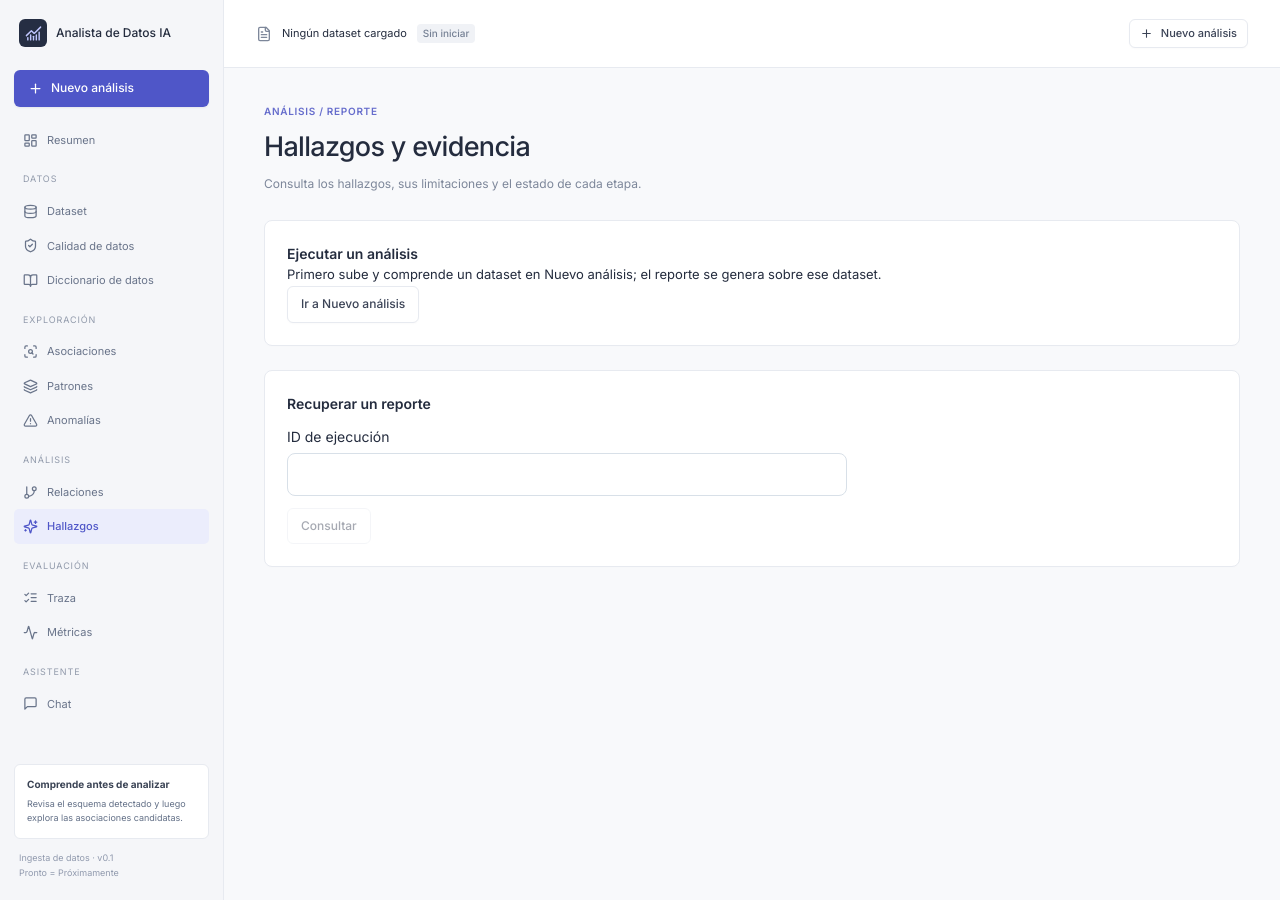
Scenario: Chat fundamentado › uses the backend catalog and links an answered response to its original evidence
Type "chat-run" into the field labelled "ID de ejecución".
click(567, 474); type("chat-run")  # box [287,453,847,496]
Click the button "Consultar".
click(329, 526)  # box [287,508,371,544]
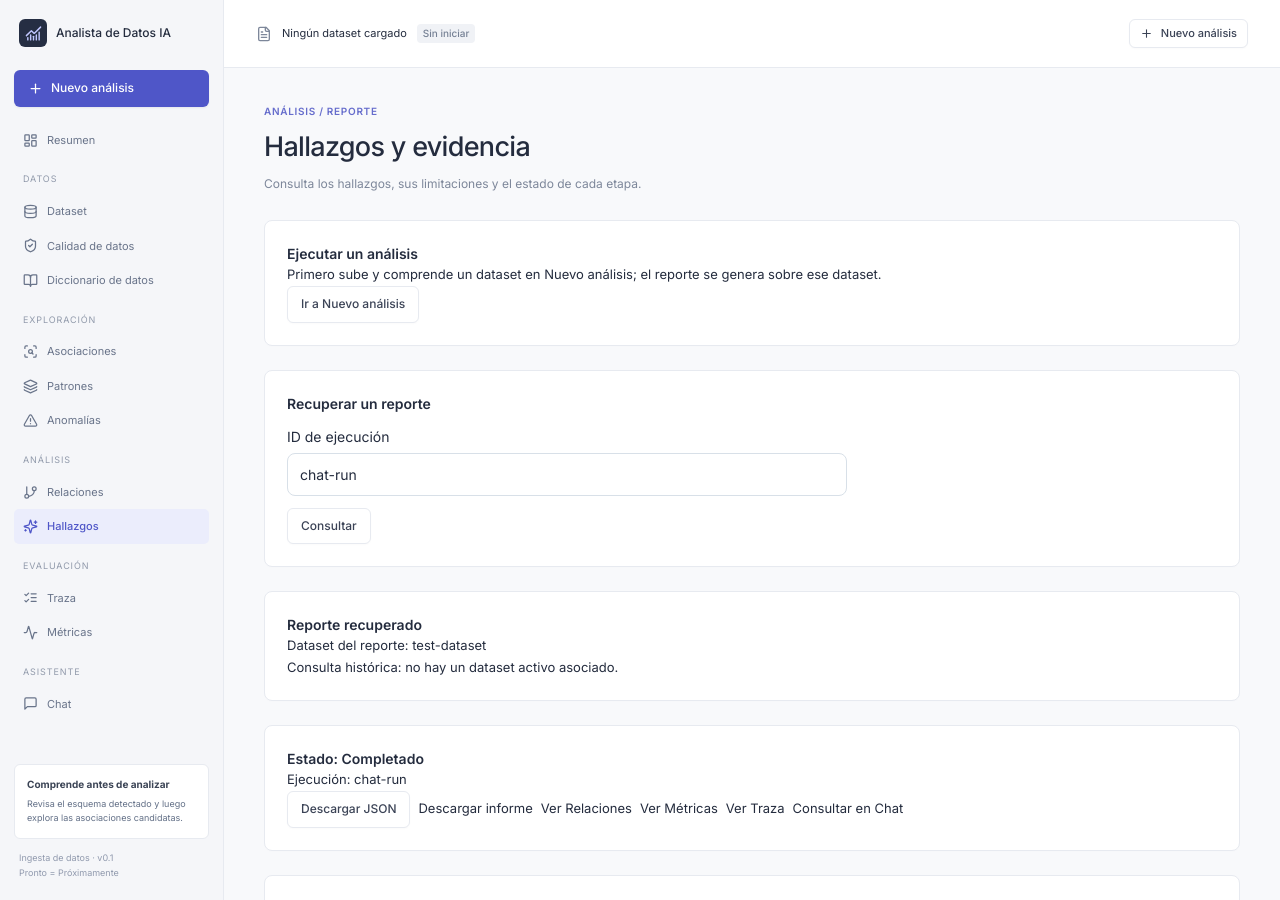
expect the text "Ejecución: chat-run" is shown: met, box [287,771,407,787]
Click the link "Chat".
click(47, 704)  # box [23,696,71,711]
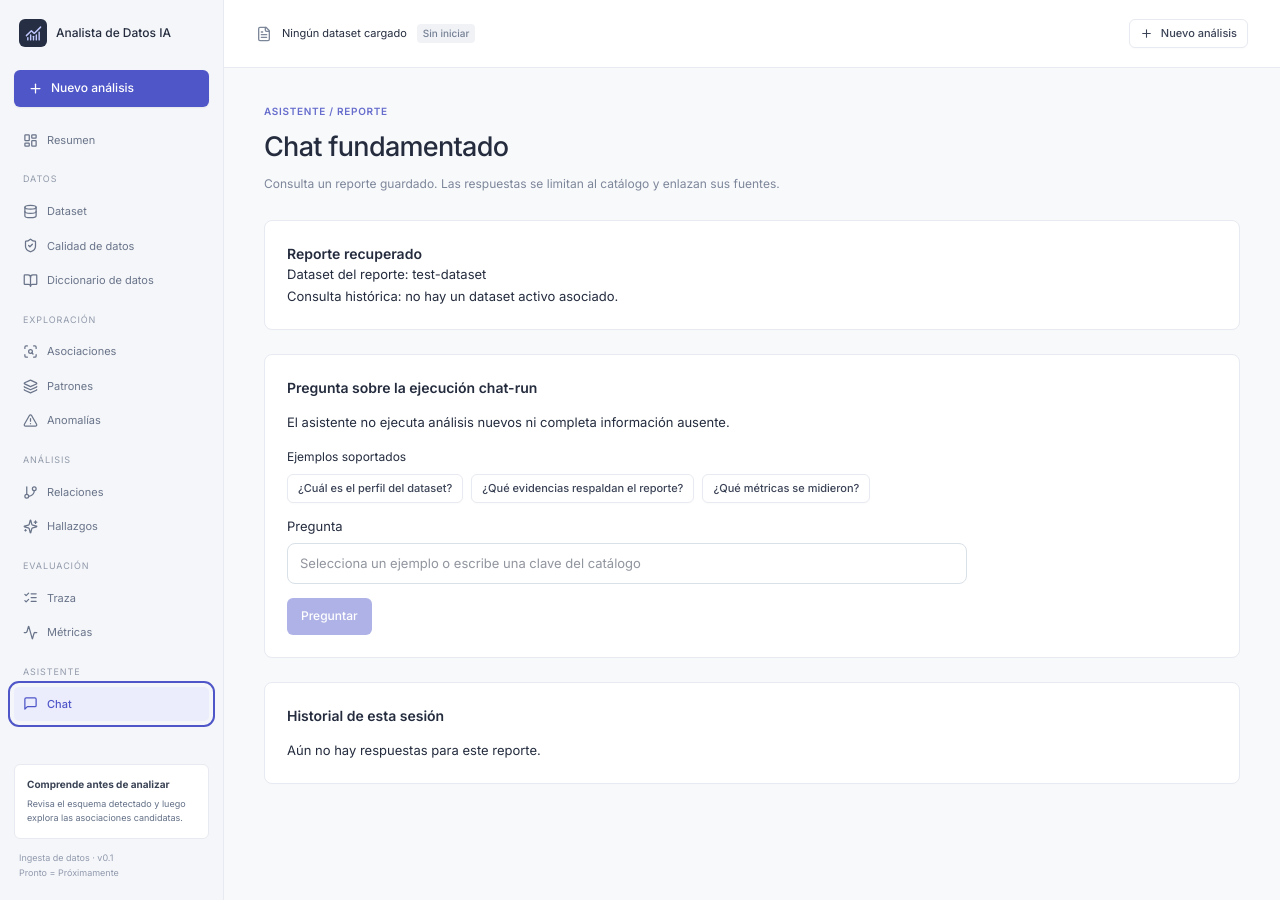
Click the button "¿Qué evidencias respaldan el reporte?".
click(583, 488)  # box [471,474,694,503]
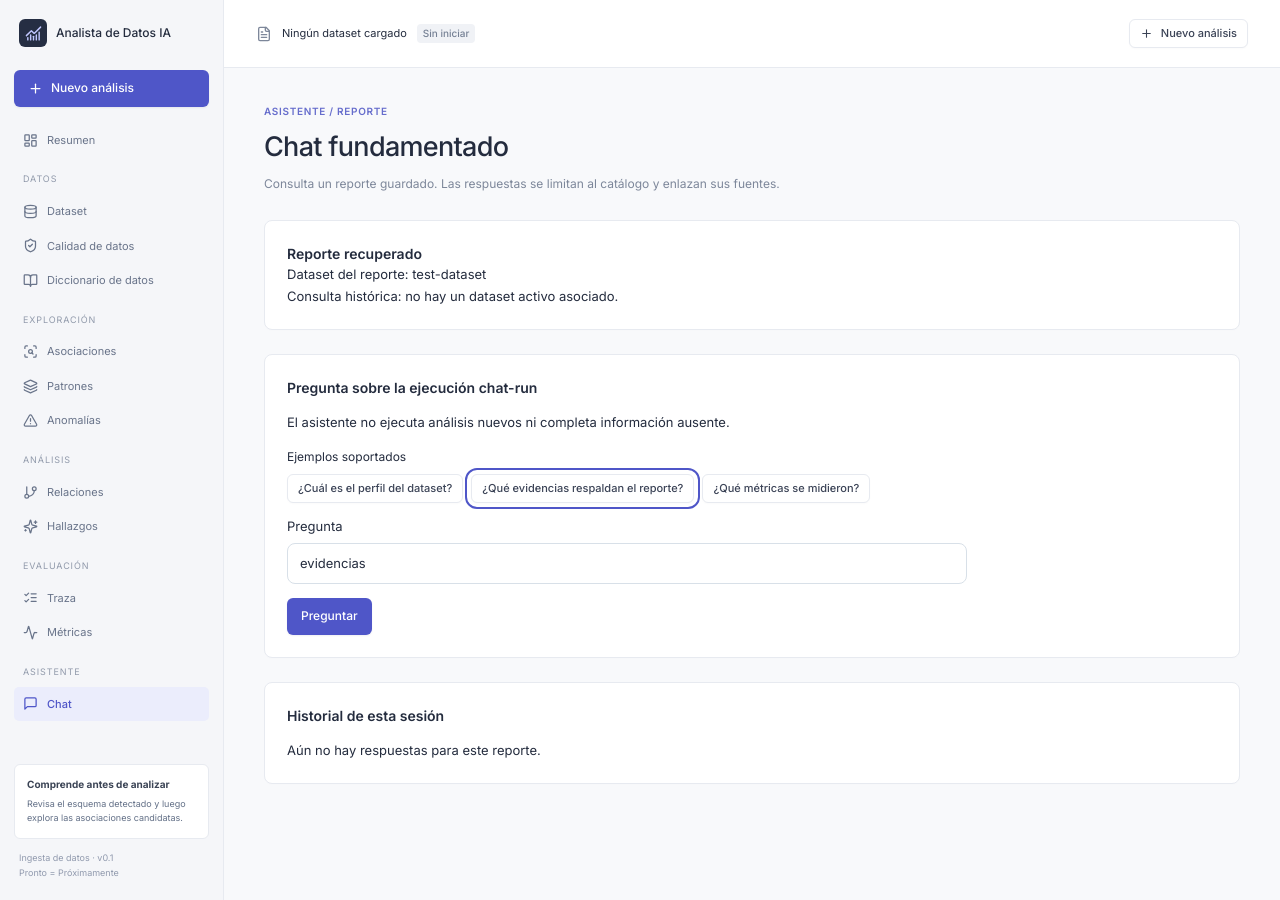
expect the field named "Pregunta para el reporte" holds "evidencias": met, box [287,543,967,584]
Click the button "Preguntar".
click(329, 616)  # box [287,598,372,635]
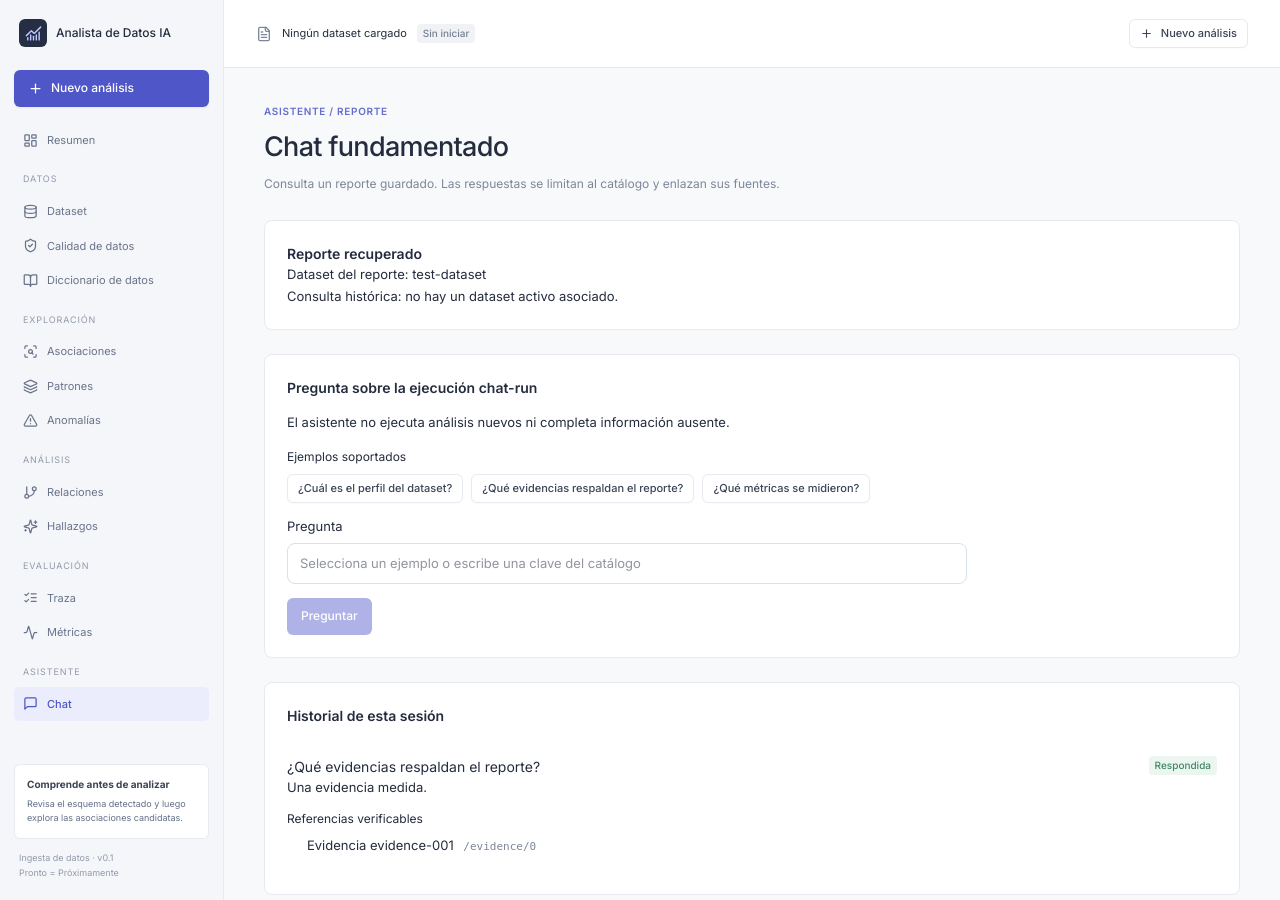
expect the text "Una evidencia medida." is shown: met, box [287,779,427,795]
expect the text "/evidence/0" is shown: met, box [463,840,536,853]
Click the link "Métricas".
click(58, 632)  # box [23,625,92,640]
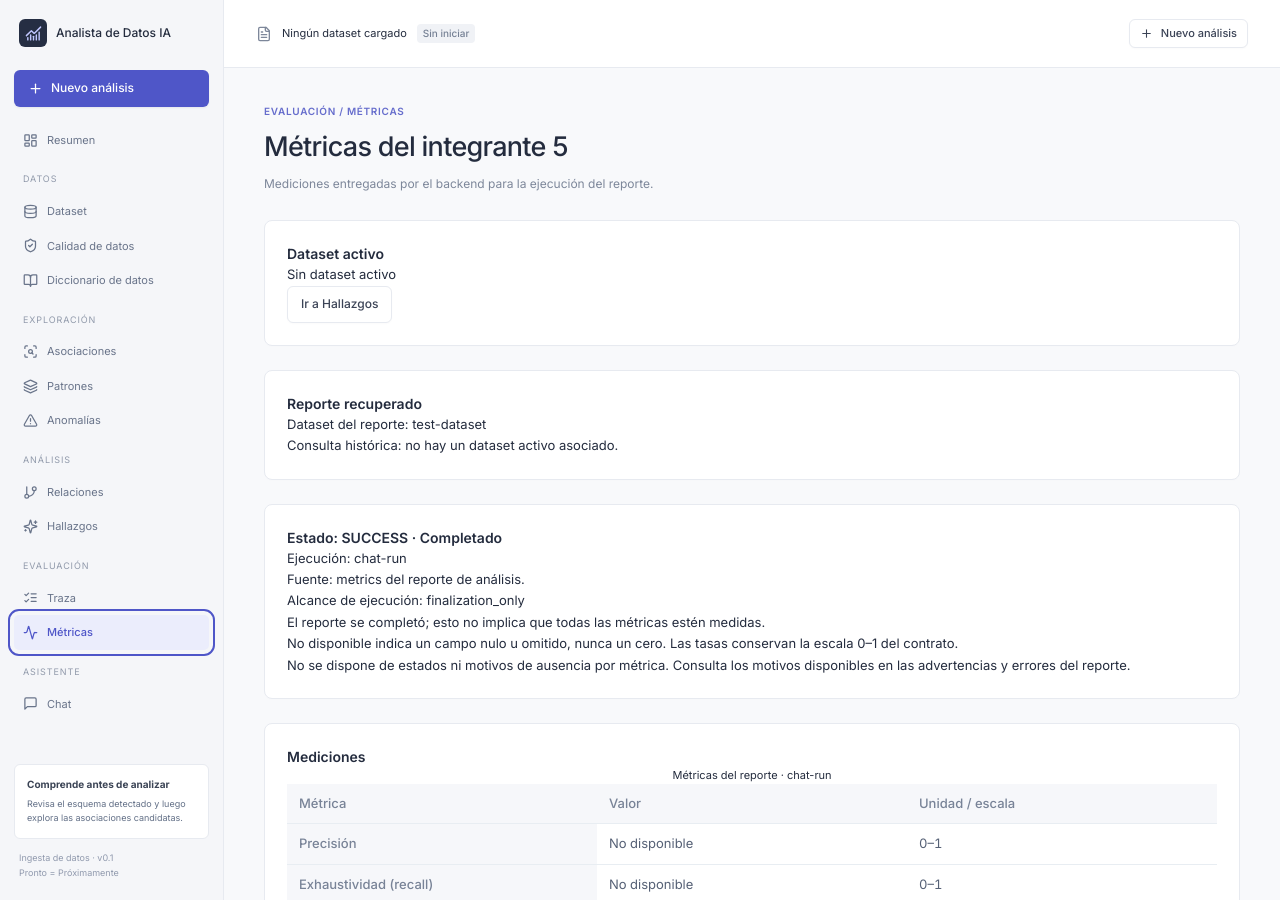
Click the link "Chat".
click(47, 704)  # box [23,696,71,711]
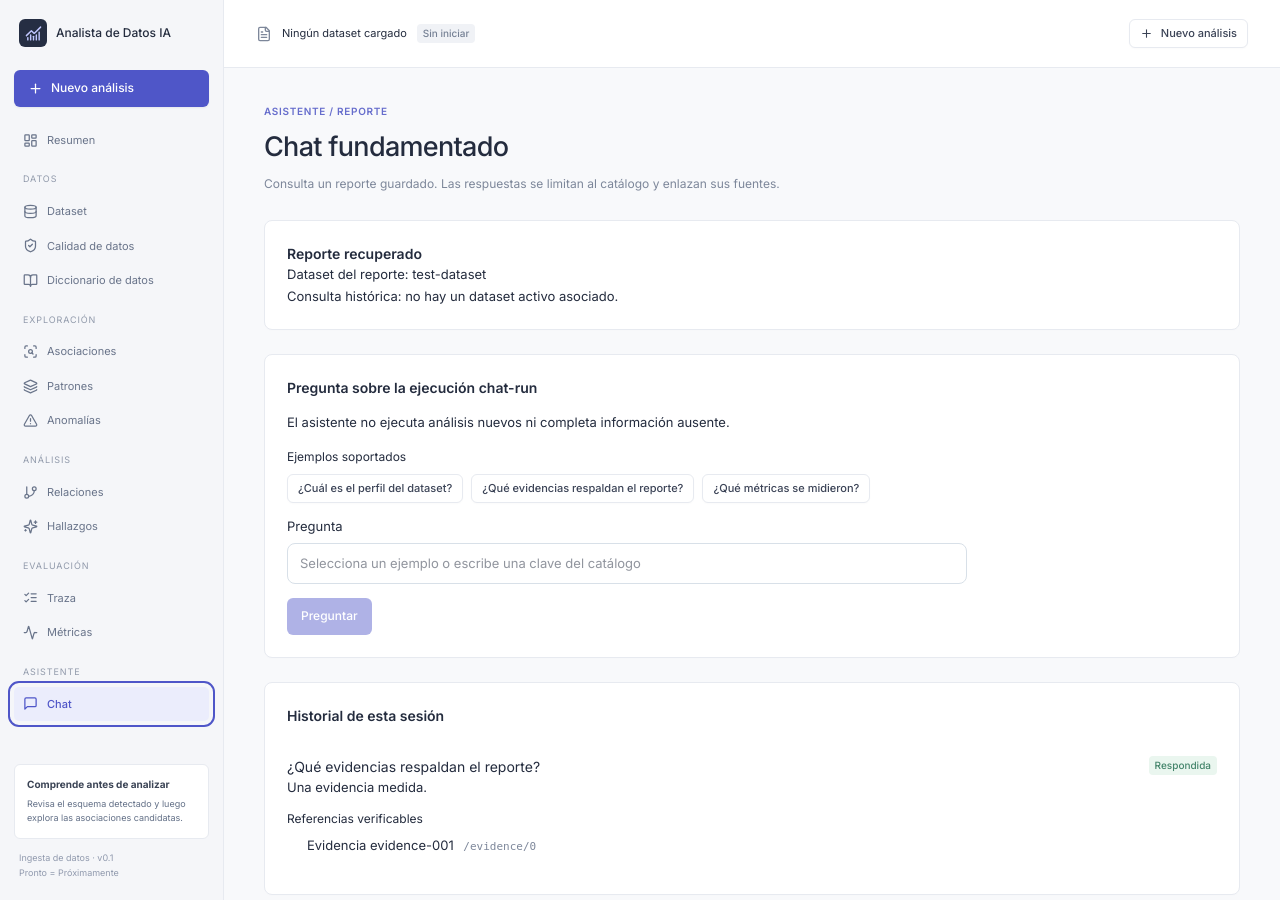
expect the text "Una evidencia medida." is shown: met, box [287,779,427,795]
